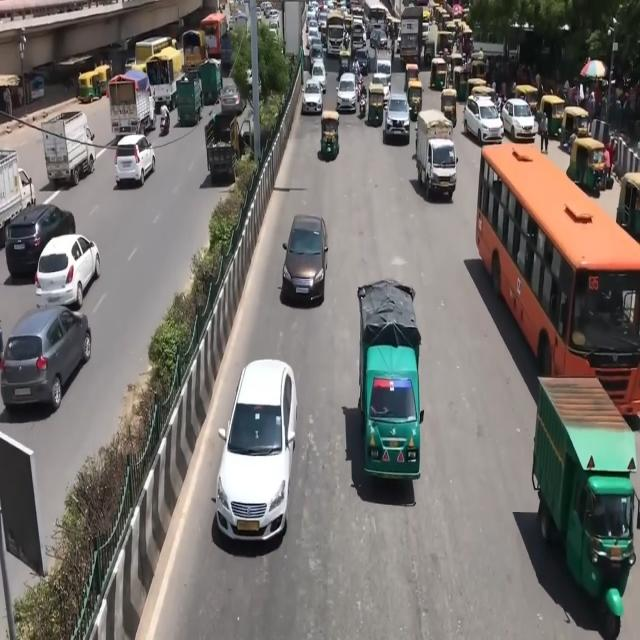auto: (527, 353, 640, 640), (42, 110, 96, 187), (566, 134, 608, 194), (76, 64, 109, 103), (540, 94, 566, 138), (561, 104, 589, 144), (320, 110, 340, 160), (367, 82, 386, 126), (440, 86, 459, 130), (406, 78, 423, 121), (404, 63, 420, 98), (338, 46, 352, 81)
bike-auto: (160, 103, 170, 135), (358, 83, 366, 118)
